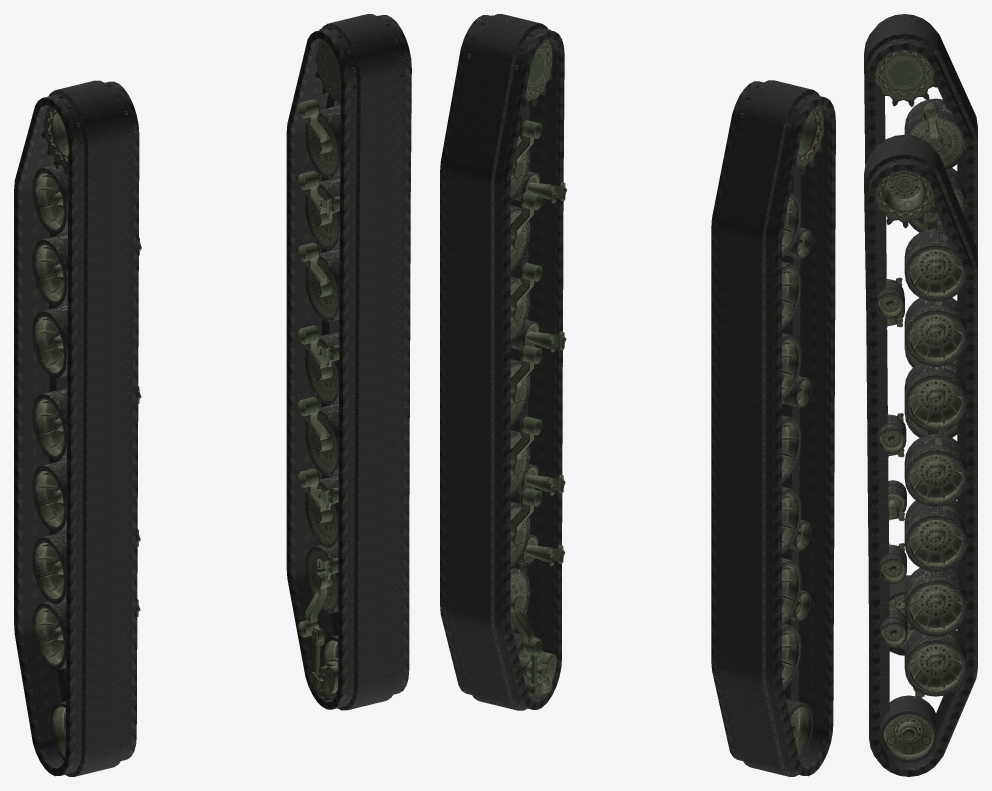
The model's file is Chassis.glb.
3 renders of one model, left to right at view 1: azimuth 30°, elevation 25°; view 2: azimuth 150°, elevation 25°; view 3: azimuth 270°, elevation 25°, orthographic. The views are drawn at different scales.
Parts seen in each view (by area): view 1: set_3_group_0, set_2_group_0, set_1_group_0, set_0_group_0; view 2: set_3_group_0, set_2_group_0, set_1_group_0, set_0_group_0; view 3: set_1_group_0, set_2_group_0, set_0_group_0, set_3_group_0.
Part boxes in pixels (bbox=[...]): set_3_group_0: bbox=[14, 80, 139, 776]; set_2_group_0: bbox=[286, 14, 411, 710]; set_1_group_0: bbox=[298, 15, 404, 699]; set_0_group_0: bbox=[32, 83, 141, 759]; set_3_group_0: bbox=[711, 80, 835, 776]; set_2_group_0: bbox=[440, 14, 564, 710]; set_1_group_0: bbox=[467, 15, 566, 697]; set_0_group_0: bbox=[737, 84, 823, 759]; set_1_group_0: bbox=[866, 137, 966, 763]; set_2_group_0: bbox=[864, 134, 977, 776]; set_0_group_0: bbox=[866, 16, 966, 647]; set_3_group_0: bbox=[864, 14, 977, 655].
Bounding box in the file's own units: 3.52 × 6.77 × 1.13.
4 materials, 4 textured.
